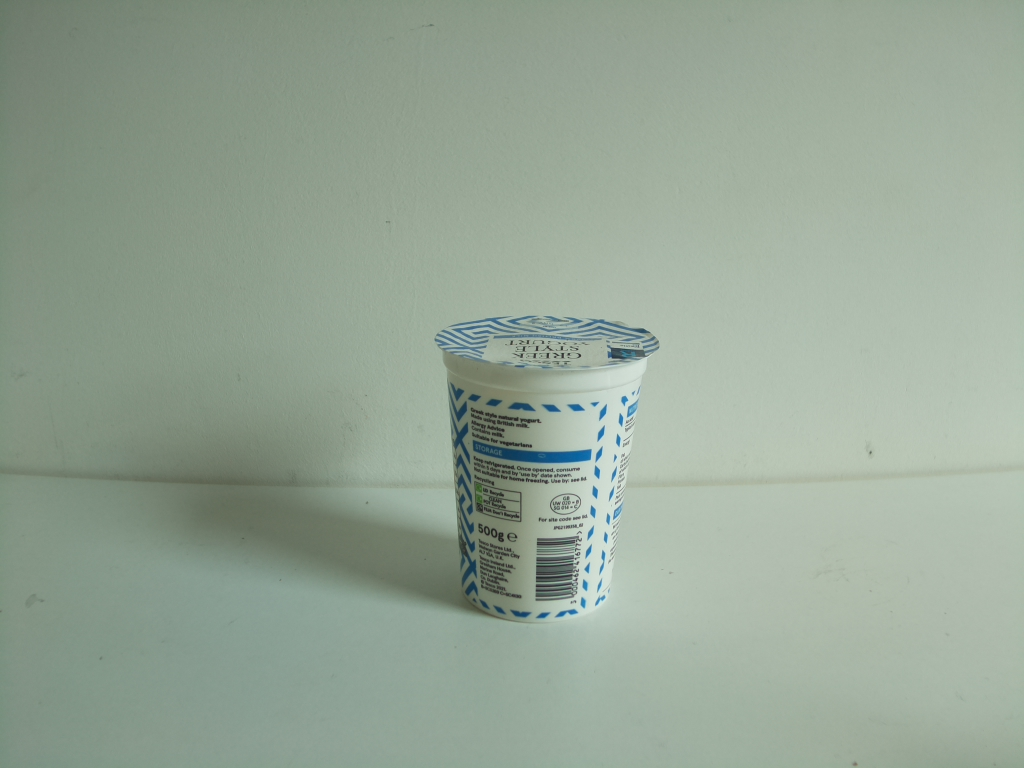yogurt: (422, 312, 666, 628)
